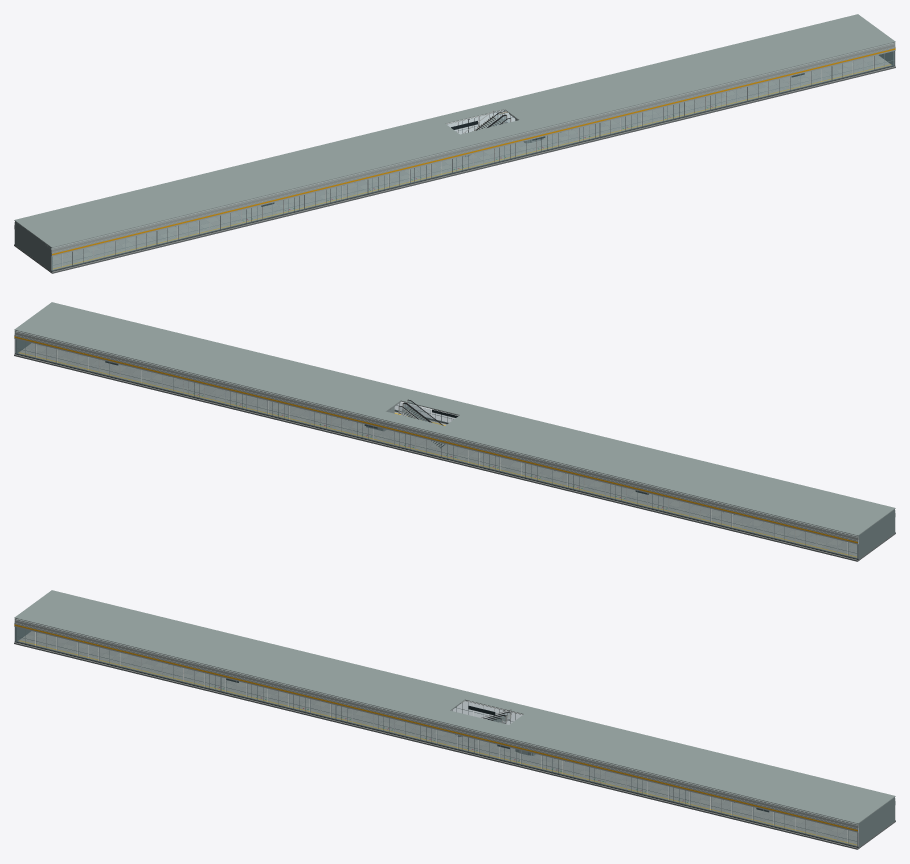
The model's file is sg-bayfront-platform-circle.glb.
3 renders of one model, top to bottom at view 1: azimuth 30°, elevation 25°; view 2: azimuth 150°, elevation 25°; view 3: azimuth 330°, elevation 25°, orthographic.
Parts seen in each view (by area): view 1: Ceiling_Platform_Suspended_Liners, Island_Tiled_Platform_Deck, Front_Platform_Screen_Door_Glazing, Front_Platform_Screen_Door_Frames, Front_Tactile_Edge_And_Boarding_Marks, Platform_End_Walls_And_Service_Doors; view 2: Ceiling_Platform_Suspended_Liners, Island_Tiled_Platform_Deck, Rear_Platform_Screen_Door_Glazing, Rear_Platform_Screen_Door_Frames, Rear_Tactile_Edge_And_Boarding_Marks, Platform_End_Walls_And_Service_Doors, Platform_Central_Escalator_And_Stair; view 3: Ceiling_Platform_Suspended_Liners, Island_Tiled_Platform_Deck, Front_Platform_Screen_Door_Glazing, Front_Platform_Screen_Door_Frames, Front_Tactile_Edge_And_Boarding_Marks, Platform_End_Walls_And_Service_Doors.
Boxes of the visible parts, x1=… form: Ceiling_Platform_Suspended_Liners: x1=14, y1=14, x2=895, y2=249; Island_Tiled_Platform_Deck: x1=14, y1=55, x2=895, y2=273; Front_Platform_Screen_Door_Glazing: x1=52, y1=51, x2=894, y2=270; Front_Platform_Screen_Door_Frames: x1=51, y1=44, x2=895, y2=271; Front_Tactile_Edge_And_Boarding_Marks: x1=53, y1=64, x2=892, y2=270; Platform_End_Walls_And_Service_Doors: x1=15, y1=42, x2=894, y2=271; Ceiling_Platform_Suspended_Liners: x1=14, y1=302, x2=895, y2=537; Island_Tiled_Platform_Deck: x1=14, y1=343, x2=895, y2=561; Rear_Platform_Screen_Door_Glazing: x1=15, y1=339, x2=857, y2=558; Rear_Platform_Screen_Door_Frames: x1=14, y1=332, x2=858, y2=559; Rear_Tactile_Edge_And_Boarding_Marks: x1=15, y1=352, x2=856, y2=557; Platform_End_Walls_And_Service_Doors: x1=15, y1=330, x2=894, y2=559; Platform_Central_Escalator_And_Stair: x1=366, y1=399, x2=445, y2=448; Ceiling_Platform_Suspended_Liners: x1=14, y1=590, x2=895, y2=825; Island_Tiled_Platform_Deck: x1=14, y1=631, x2=895, y2=849; Front_Platform_Screen_Door_Glazing: x1=15, y1=627, x2=857, y2=845; Front_Platform_Screen_Door_Frames: x1=14, y1=620, x2=858, y2=847; Front_Tactile_Edge_And_Boarding_Marks: x1=15, y1=640, x2=856, y2=845; Platform_End_Walls_And_Service_Doors: x1=15, y1=618, x2=894, y2=847.
Bounding box in the file's own units: 140 × 4.69 × 11.
14 materials, 1 textured.
